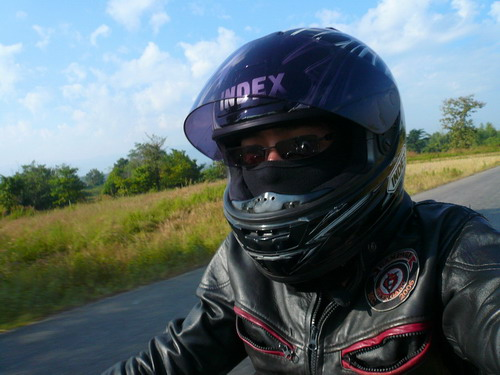Helmet: (178, 24, 417, 276)
